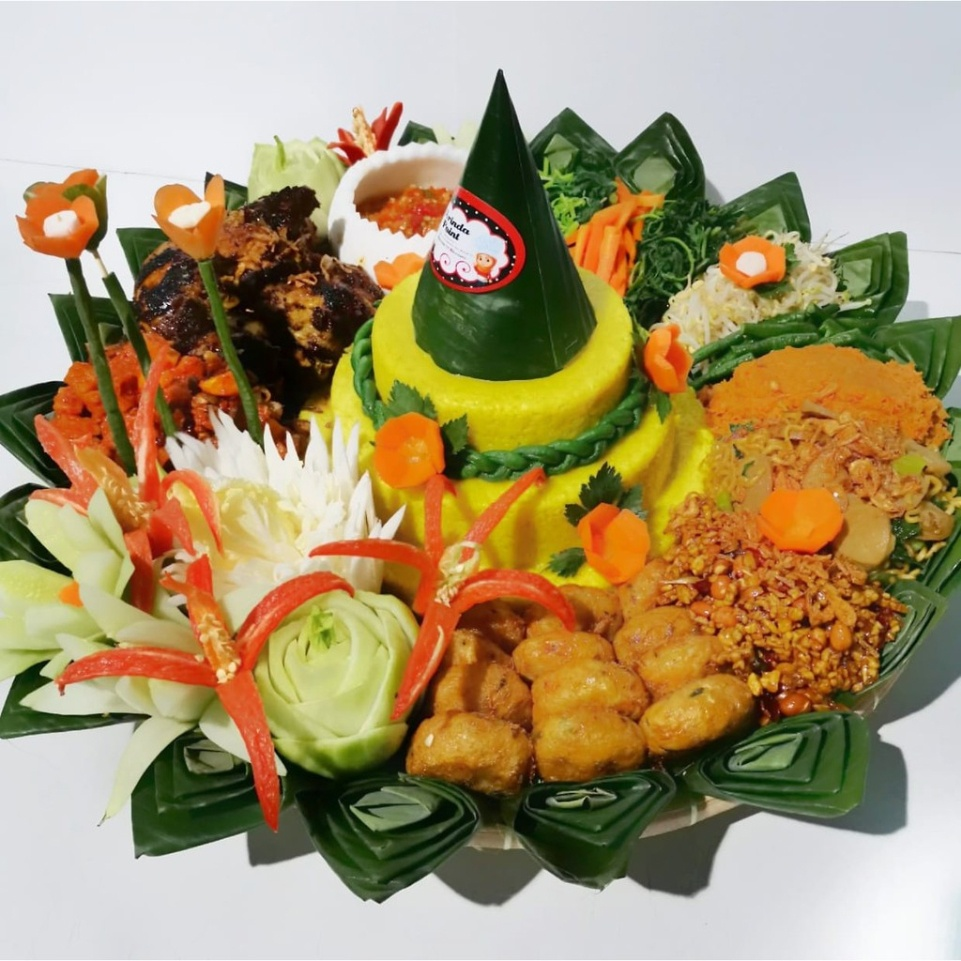tumpeng: (300, 58, 673, 447)
